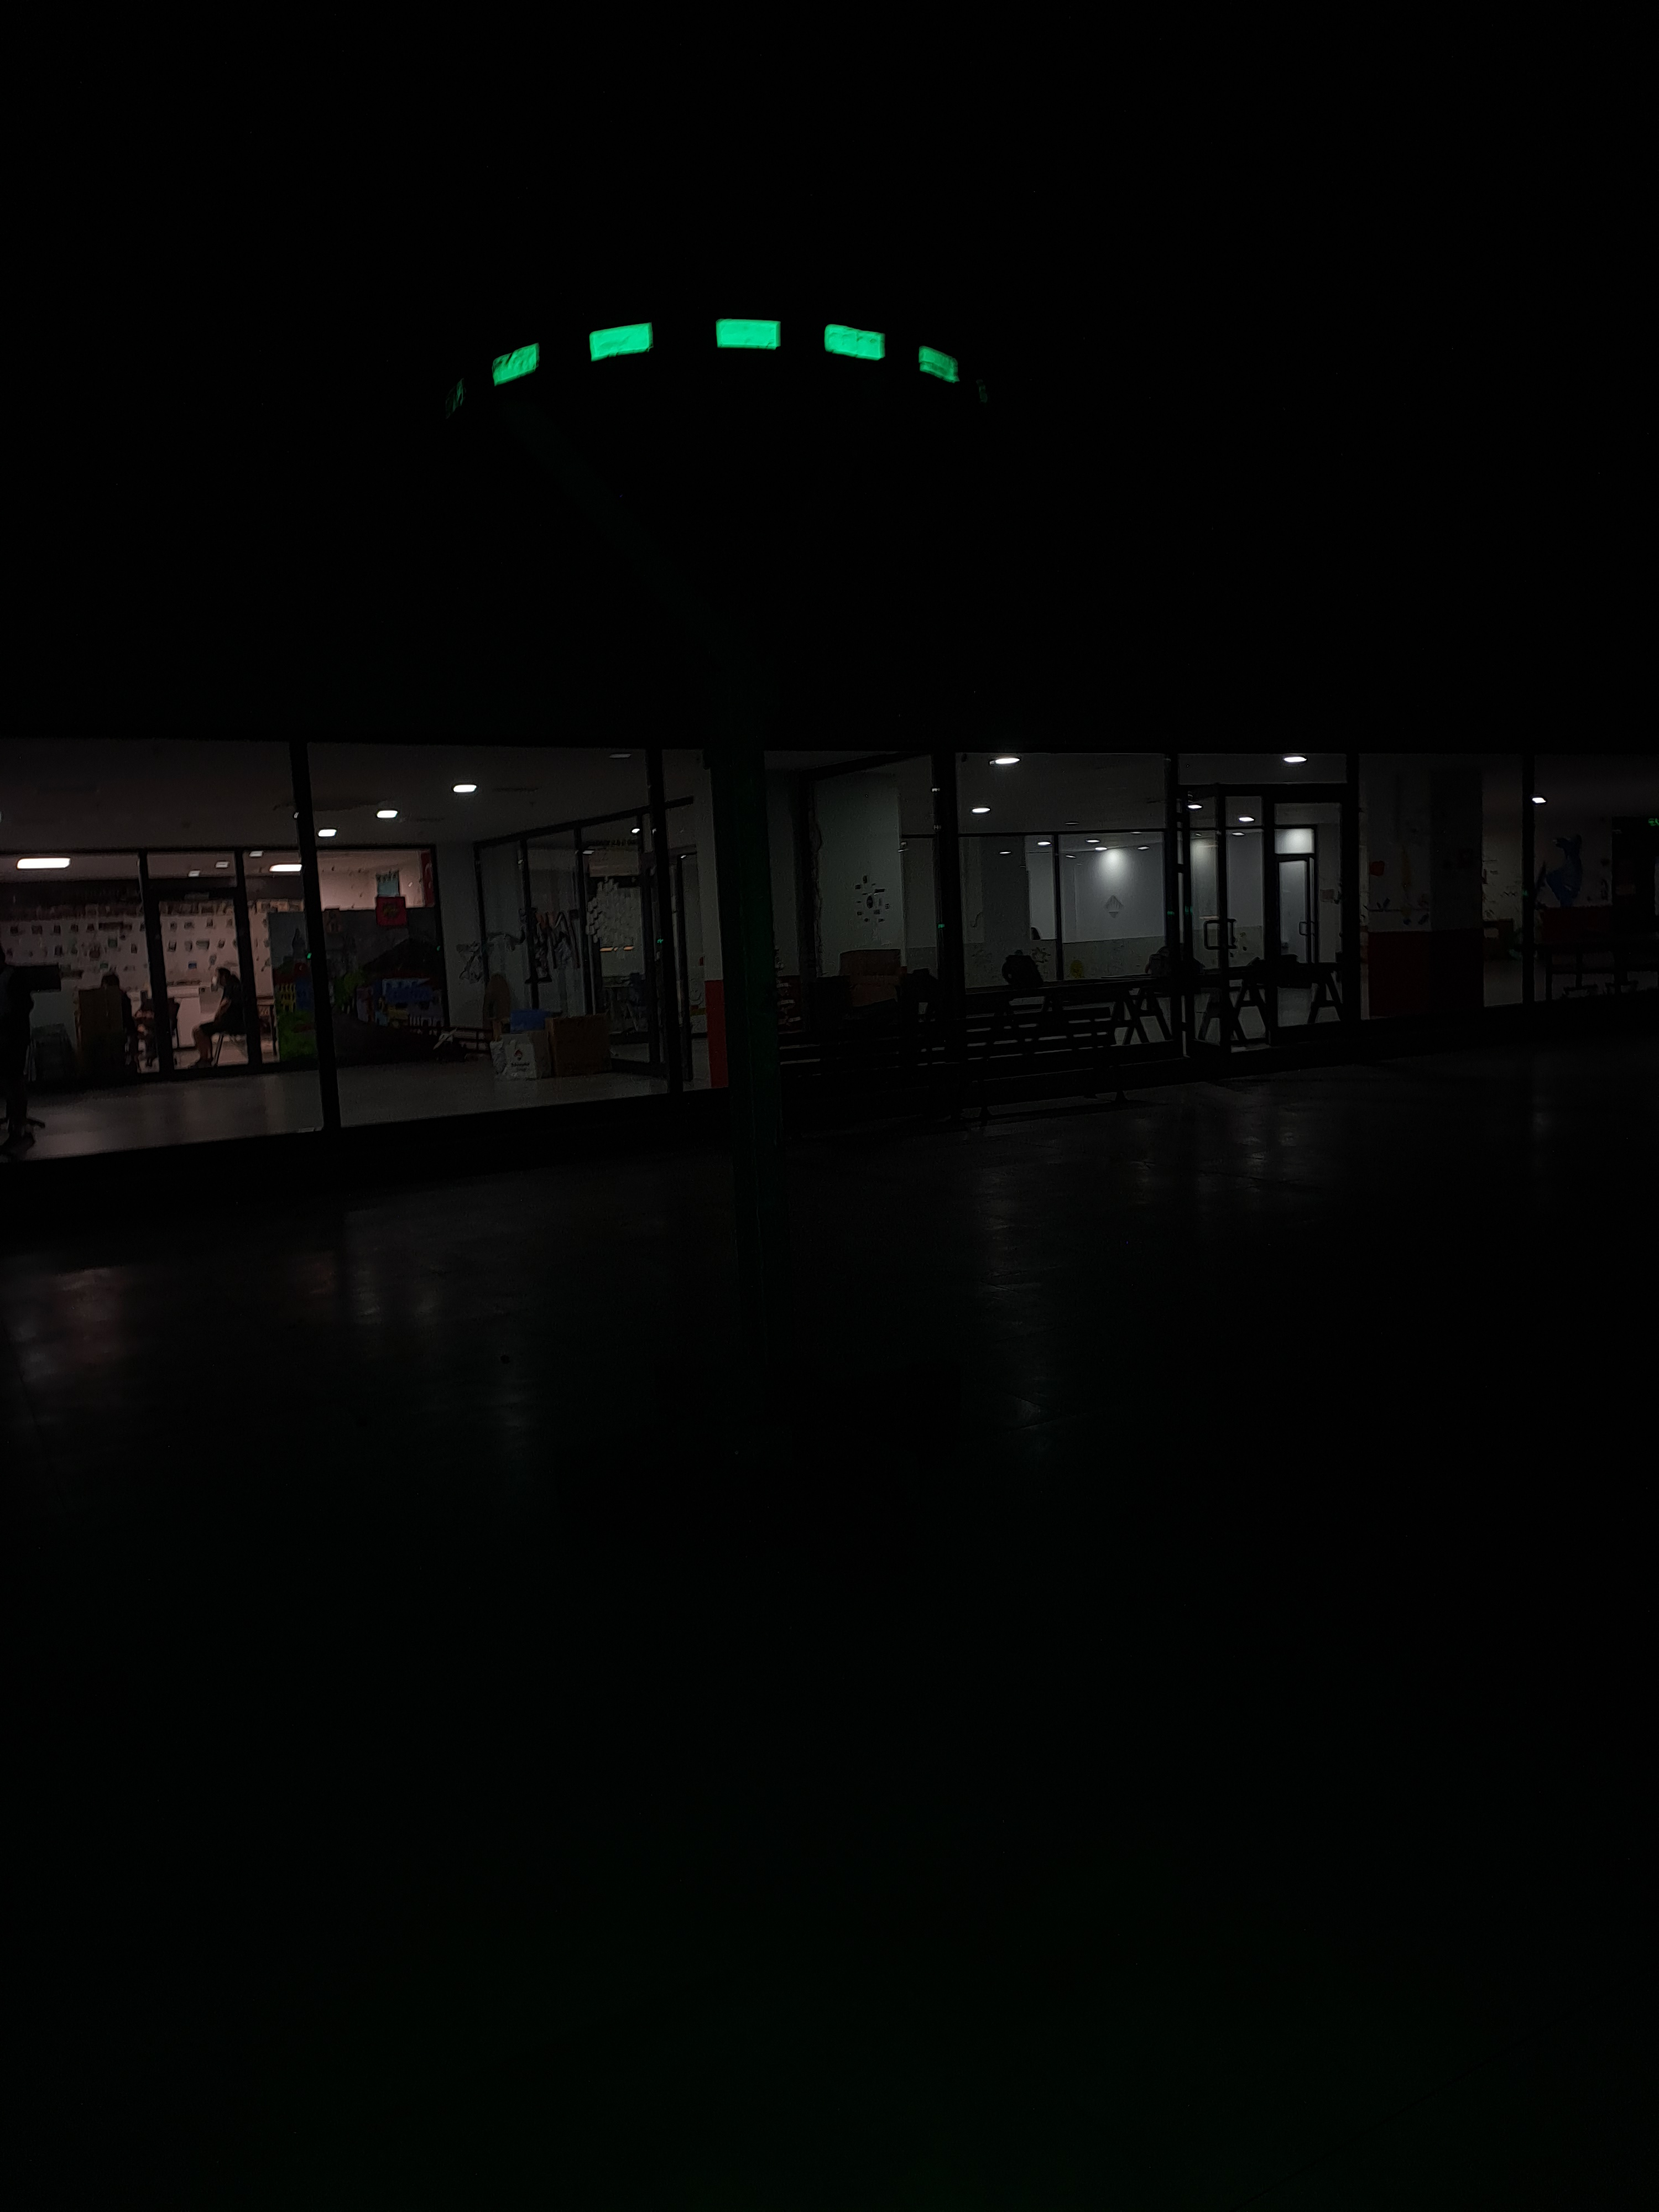hoop: (495, 305, 960, 427)
